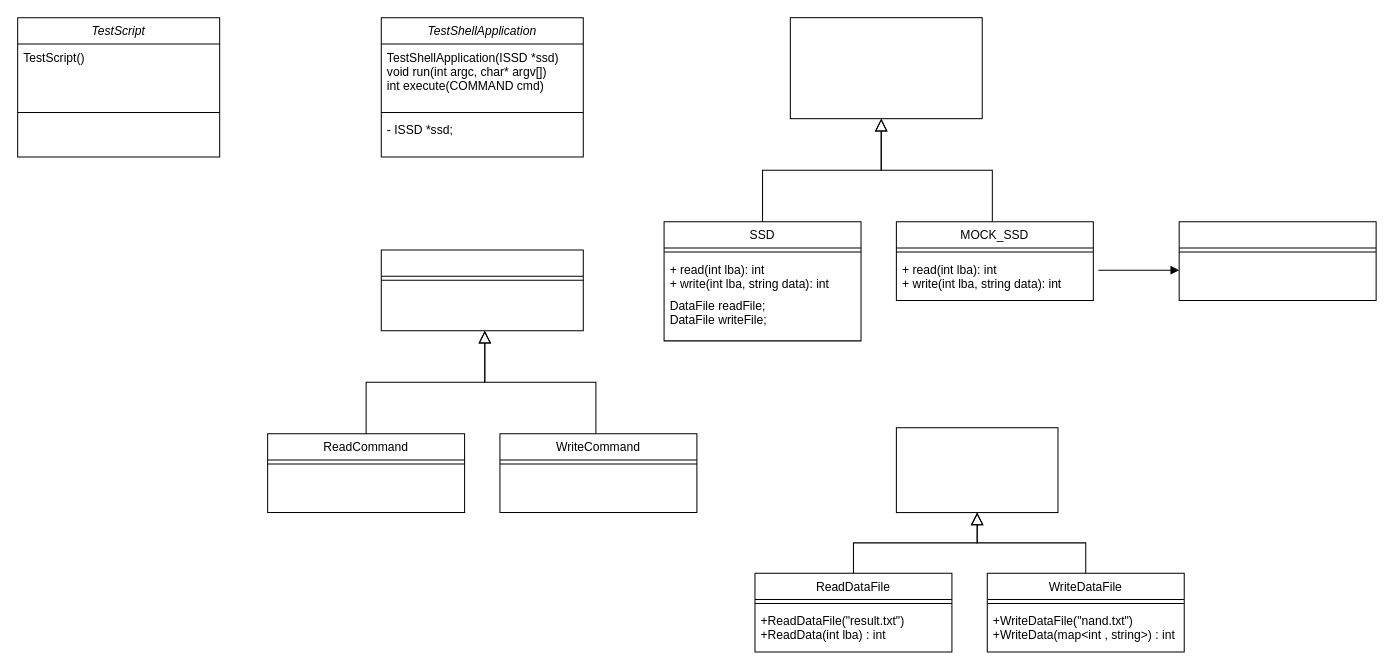
Image size: 1394x670. Some labels were removed from this diagram. Here are the shapes that lost their labels. From the top down, the centre of each, then its label:
At pixel 885 68: "<<Interface>> ISSD + read(int lba): int + write(int lba, string data): int".
At pixel 1277 260: "SSD_TEST".
At pixel 481 290: "COMMAND".
At pixel 976 470: "DataFile + file : ifstream + open(): int".
